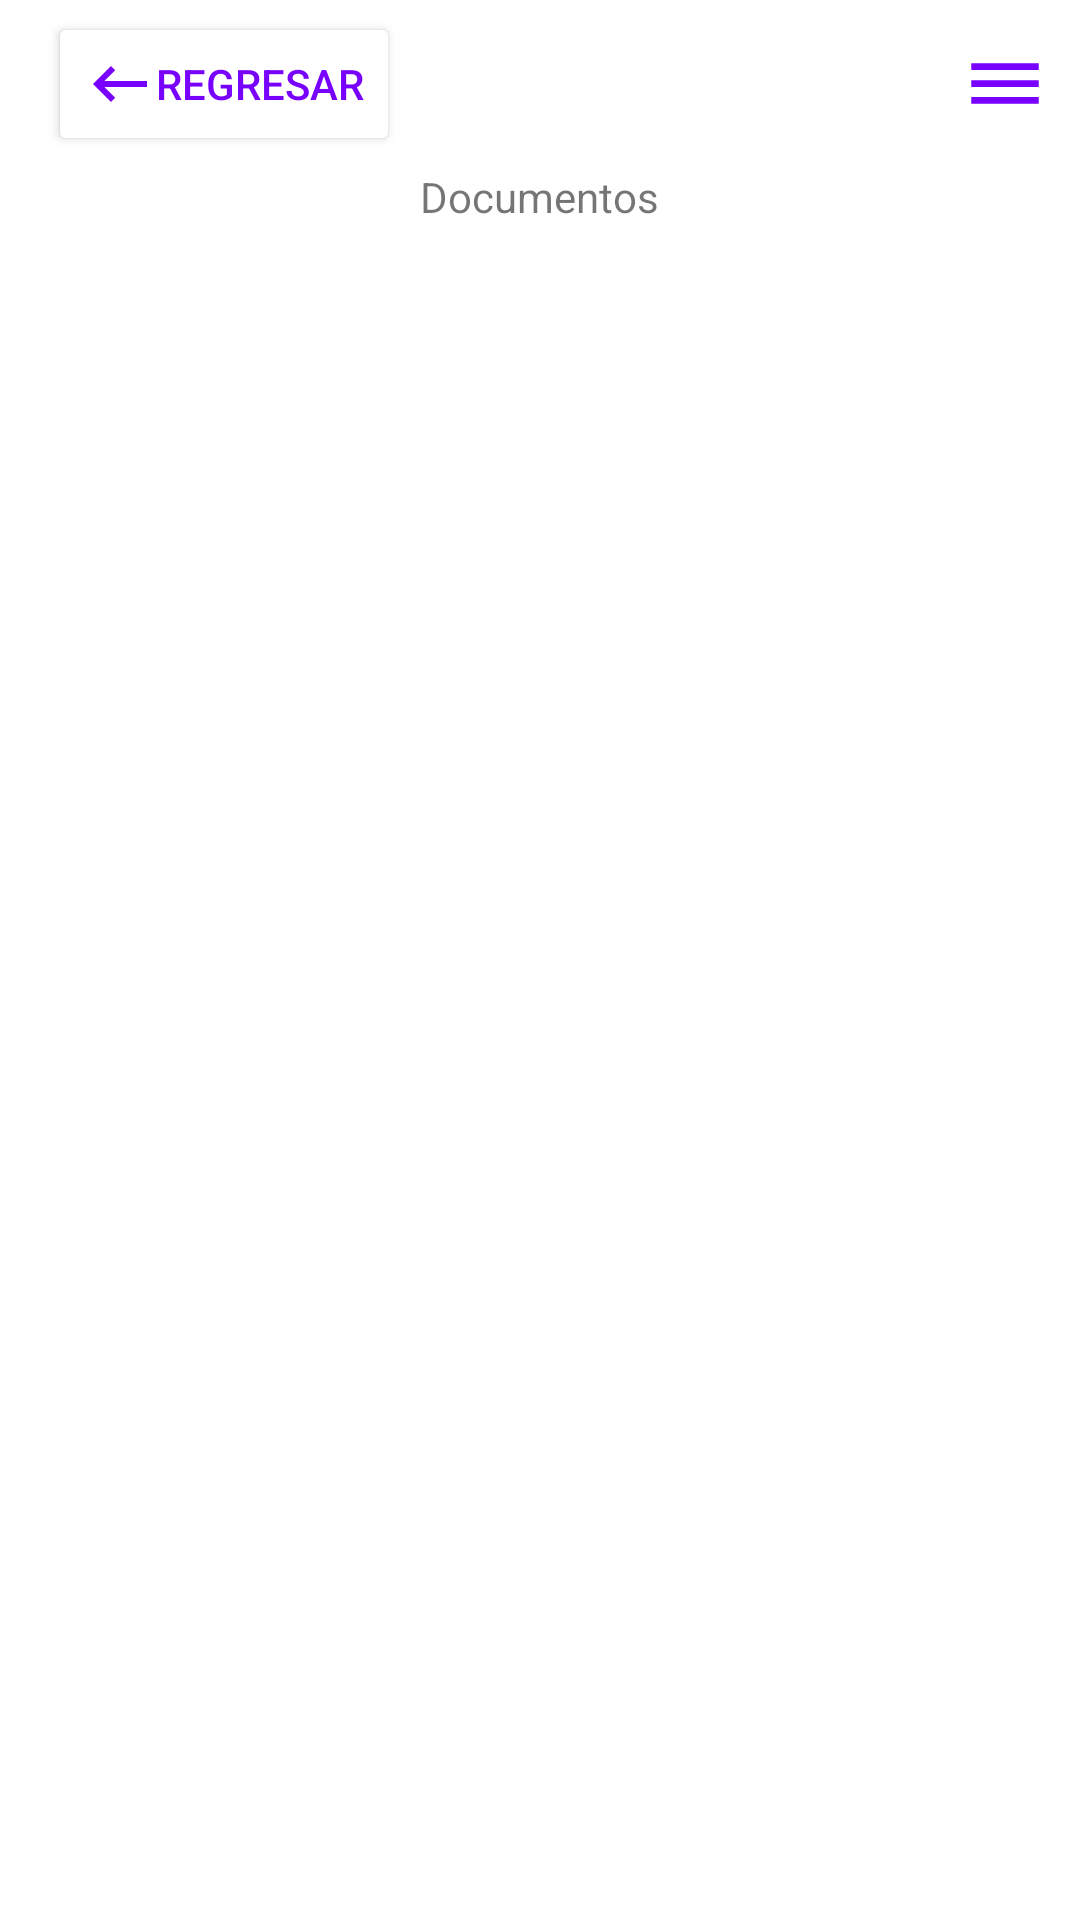

Icons on this 1080w x 1920h Android screen, each with its box as (x1, y1, x2, y2):
menu: (971, 63, 1039, 104)
